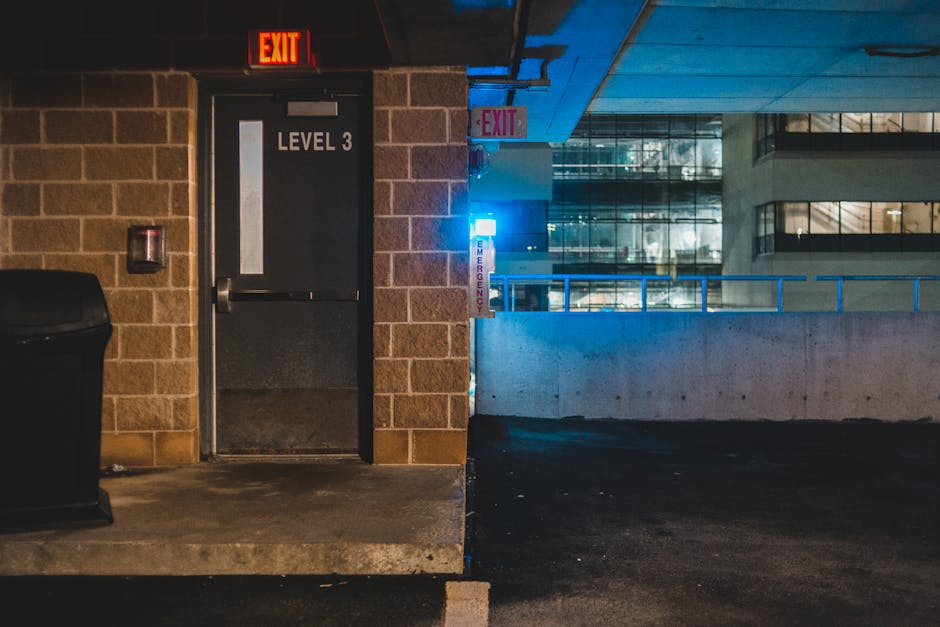emergency_exit: (247, 27, 314, 71), (470, 104, 528, 140)
